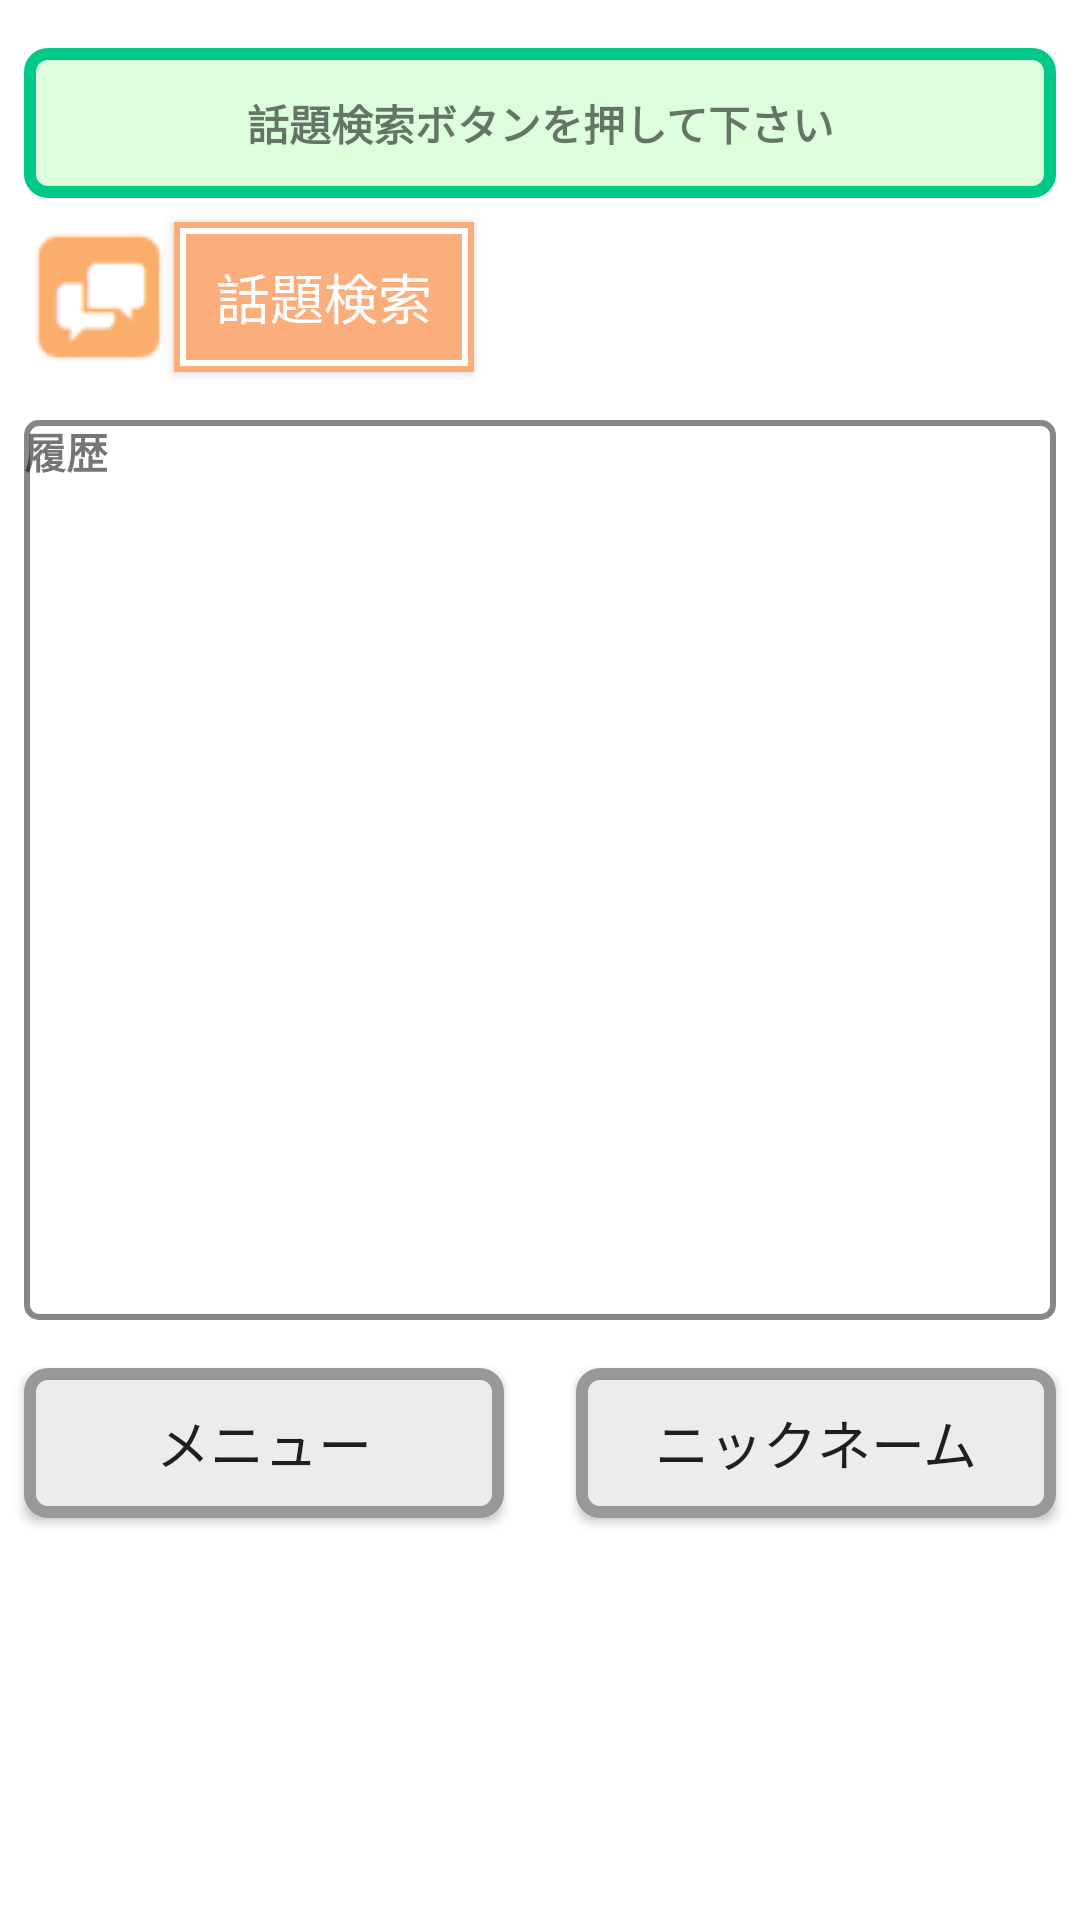

Icon click points for this 1080px x 1920px phone screenshot, format (x,y):
talk: (99,297)
